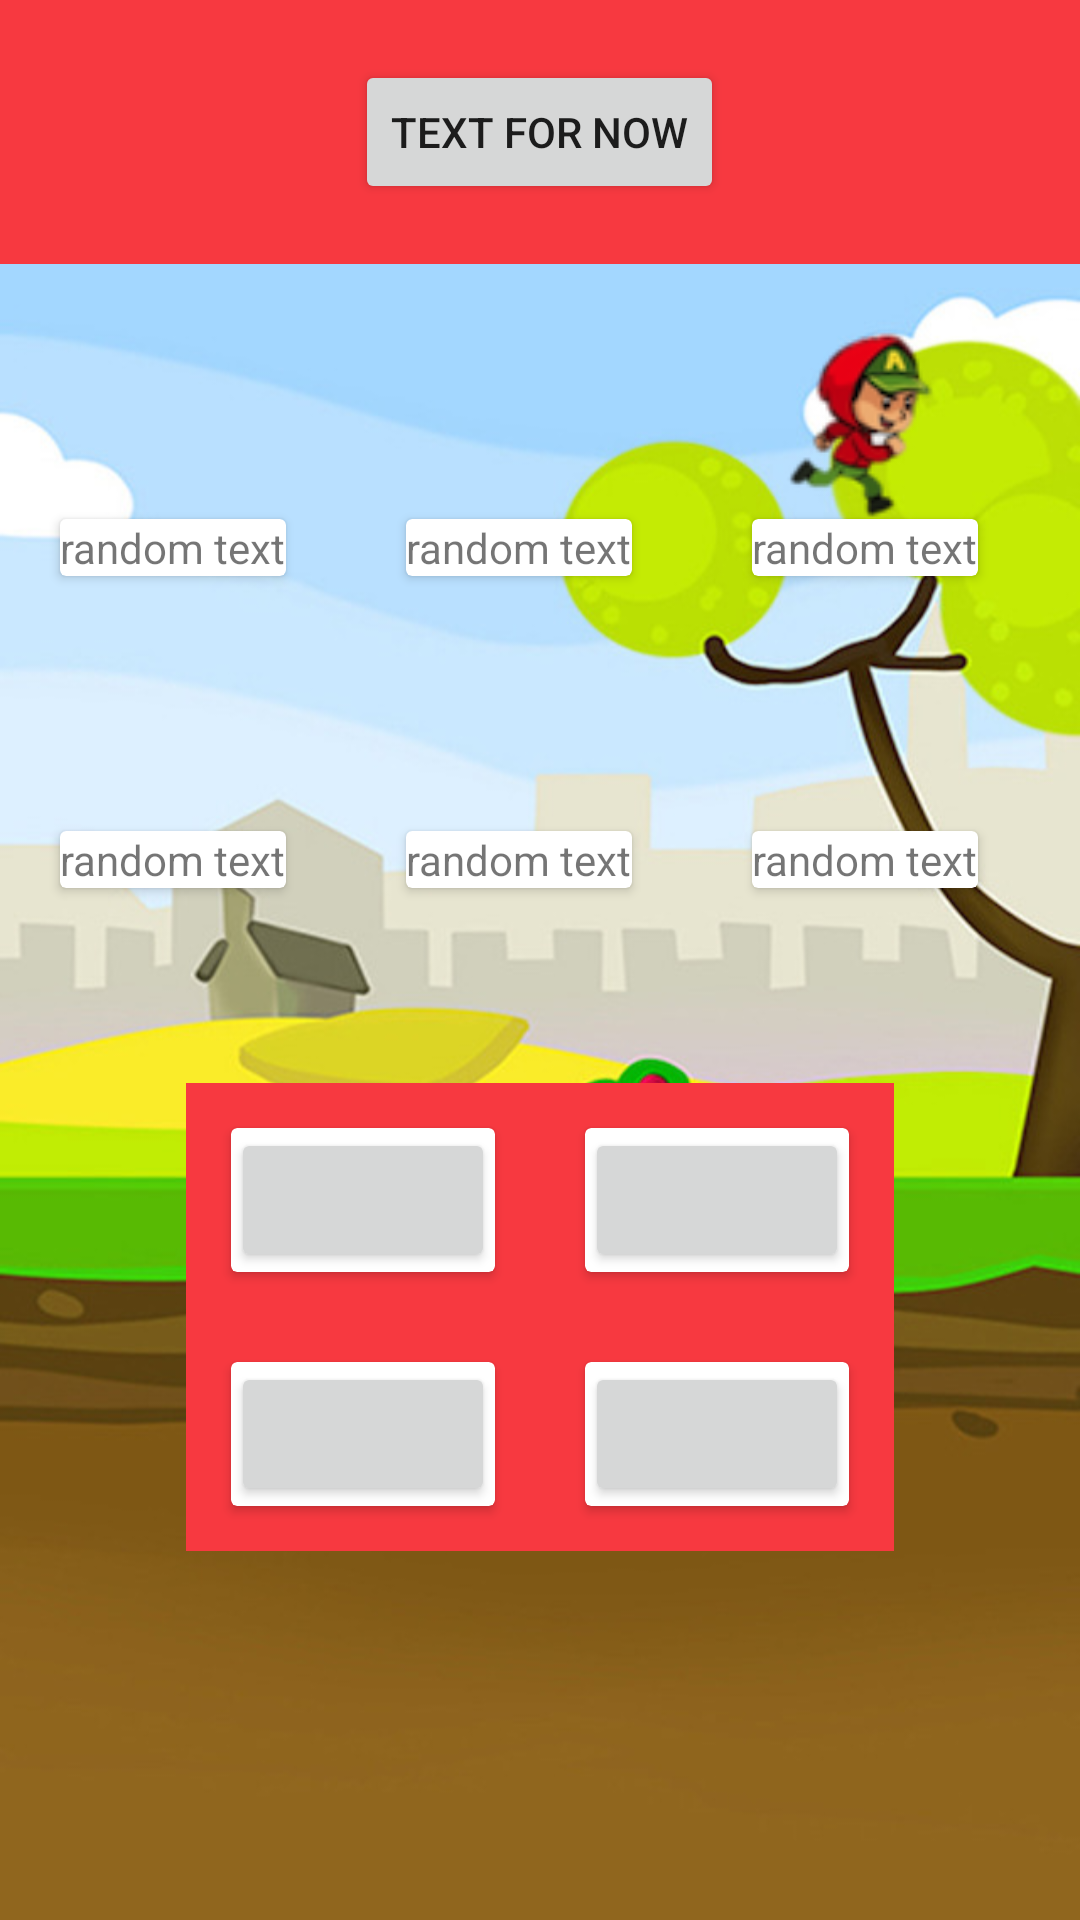

Screen size 1080px×1920px. Icon name, then its center in pixels as [x,y]:
char: [864,421]
